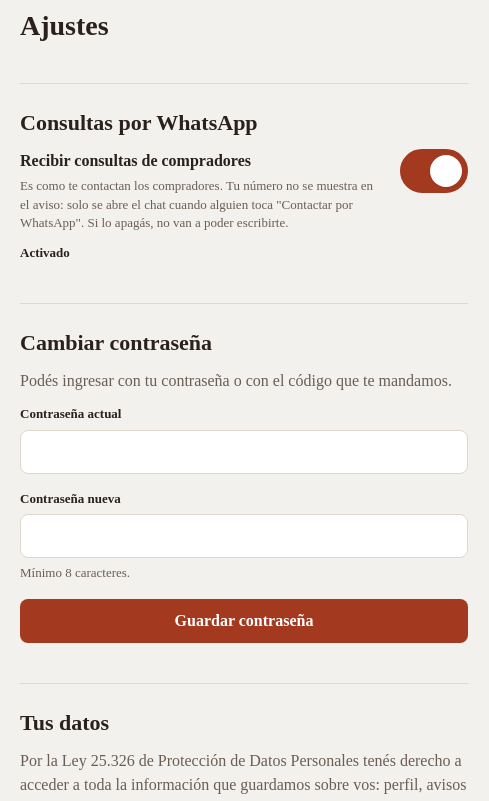
it: /ajustes — contraseña, exportación y errores › para cambiarla exige la actual y muestra el error del backend
Type "nuevasegura" into the password field labelled "Contraseña nueva" at (244, 536), box [20,514,468,558]
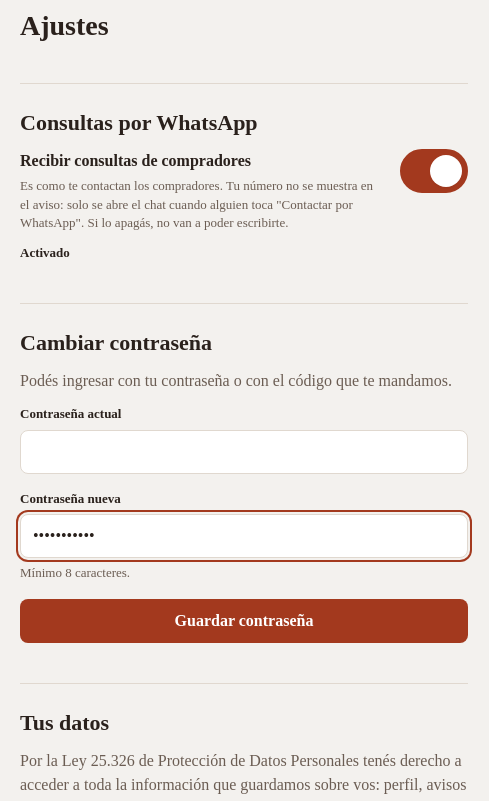
Click the button "Guardar contraseña" at (244, 621), box [20,599,468,643]
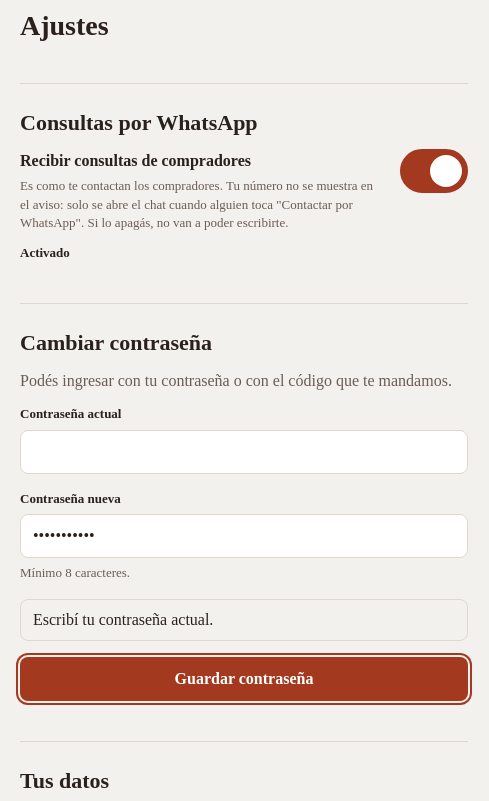
Check: the message reads "Escribí tu contraseña actual.", box [33,611,213,628]
Type "vieja123" into the password field labelled "Contraseña actual" at (244, 452), box [20,430,468,474]
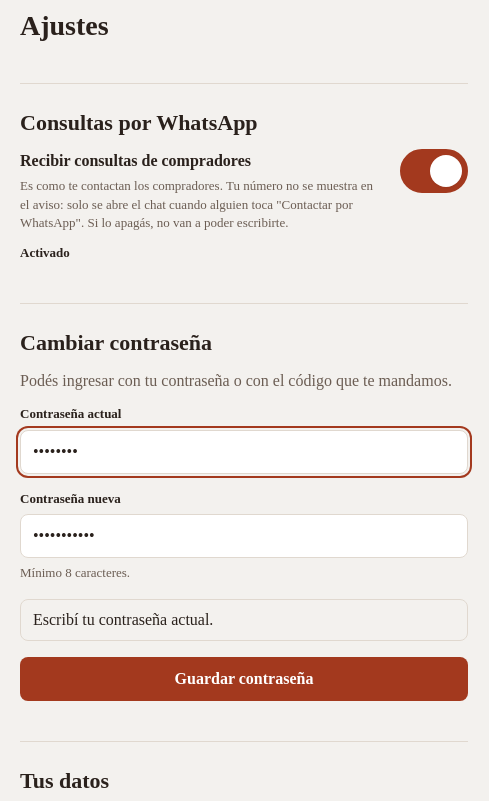
Click the button "Guardar contraseña" at (244, 679), box [20,657,468,701]
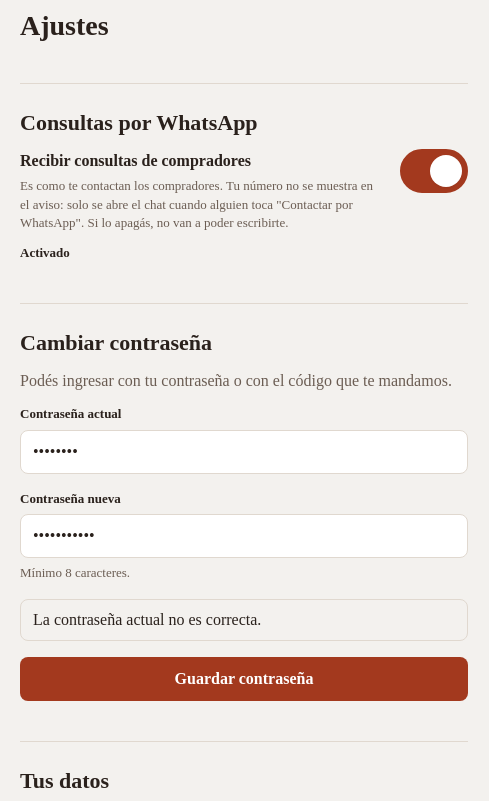
Check: the message reads "La contraseña actual no es correcta.", box [33,611,261,628]
